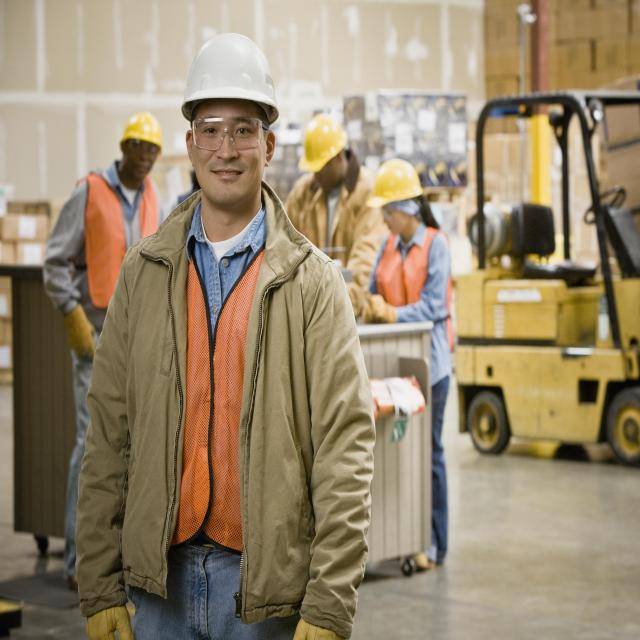Reflective-Jacket: (76, 168, 162, 310), (373, 240, 433, 320)
Safety-Helmet: (177, 29, 282, 124), (298, 105, 352, 173), (368, 152, 424, 209), (116, 106, 165, 151)
